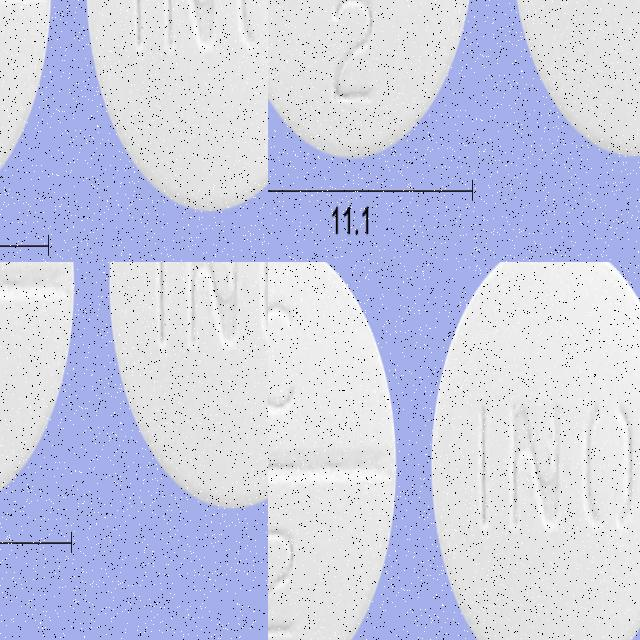Cefixime Cap: (300, 26, 582, 231)
Citopcin: (423, 262, 640, 640), (268, 262, 402, 640)
Clar - 500mg: (0, 0, 94, 216)
Clara: (0, 338, 168, 635)
